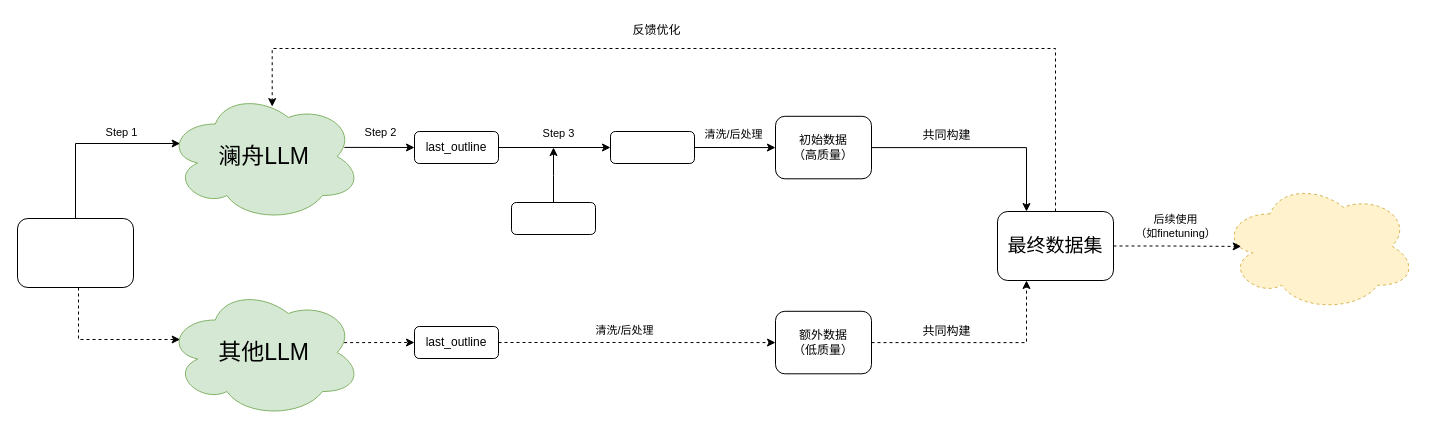
Some shapes in this 1434 by 435 pixel diagram are drawn without their labels. The shapes that lost their labels are listed below. From the top down, each one's centre as x and y in pixels, then its label:
point (652, 147): outline
point (553, 218): 人工修改
point (75, 253): 文档+问题
point (1318, 245): 后续构建LLM
